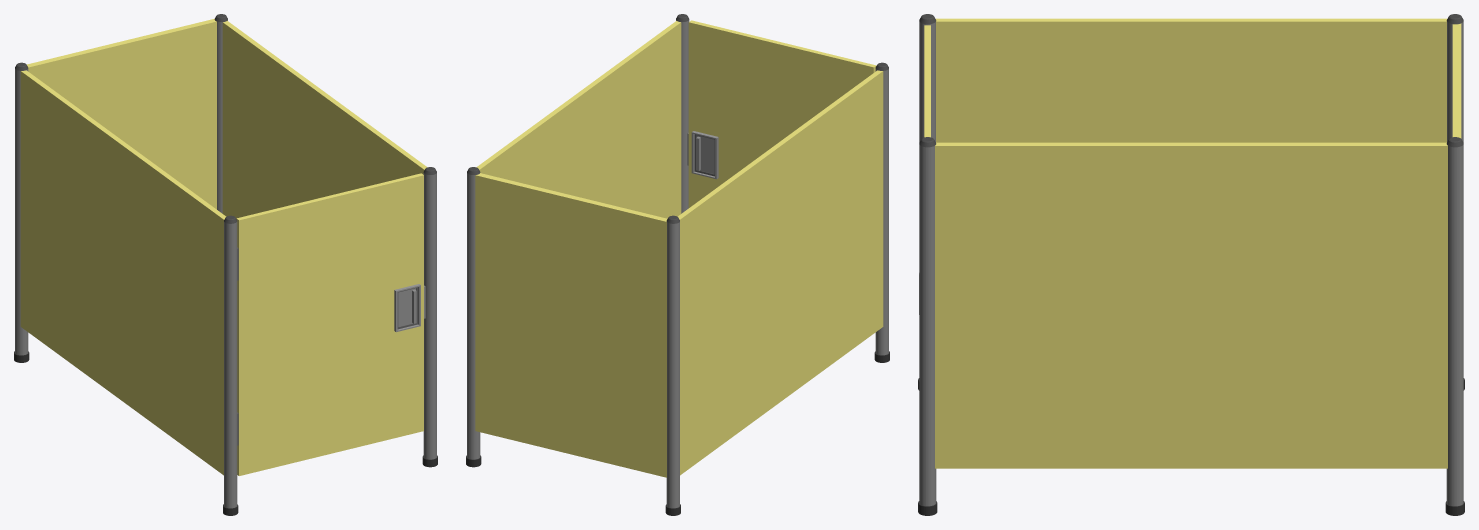
Rendered from Single Bathroom Stall Yellow.fbx.
The picture shows the model from 3 angles, left to right: view 1: azimuth 30°, elevation 25°; view 2: azimuth 150°, elevation 25°; view 3: azimuth 270°, elevation 25°; orthographic projection. The views are drawn at different scales.
Parts seen in each view (by area): view 1: Single Bathroom Stall Yellow; view 2: Single Bathroom Stall Yellow; view 3: Single Bathroom Stall Yellow.
Boxes of the visible parts, x1,y1,x2,y2 form: Single Bathroom Stall Yellow: [14, 14, 437, 515]; Single Bathroom Stall Yellow: [466, 14, 889, 515]; Single Bathroom Stall Yellow: [918, 14, 1464, 515].
Bounding box in the file's own units: 162 × 215 × 286.
Materials: 1 (1 with a texture image).
